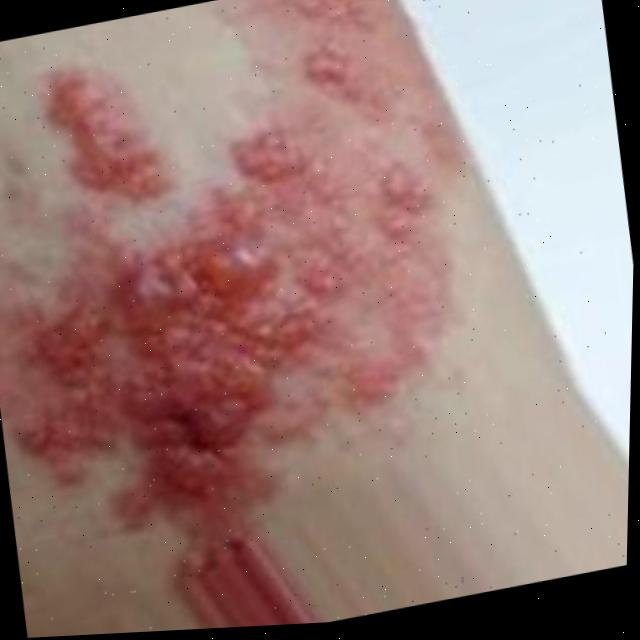Shingles: (17, 144, 432, 531), (49, 55, 158, 192), (290, 0, 387, 107)
